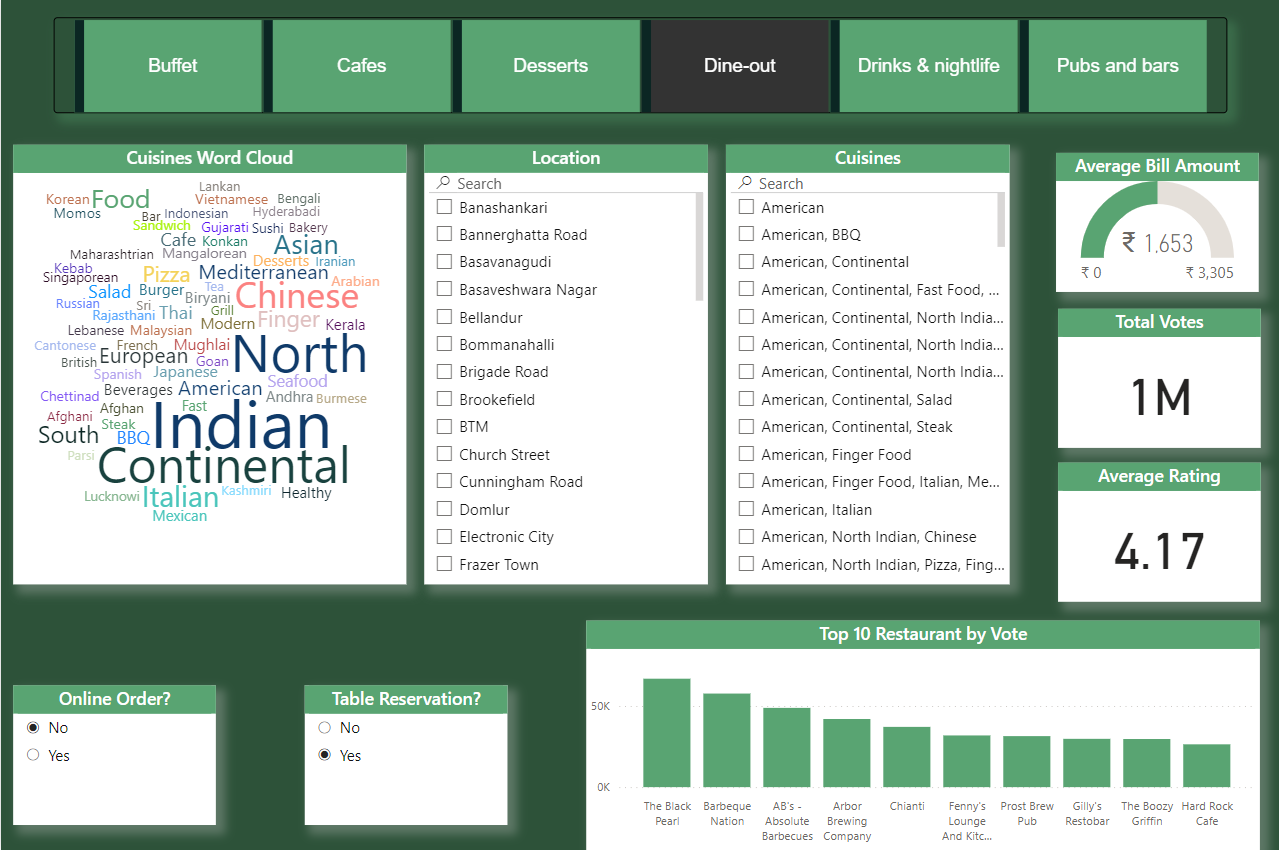

This screenshot's page, from the dashboard's own definition file:
{"tool":"powerbi","page":{"name":"Report","canvas":[1350,900],"ordinal":0},"visuals":[{"type":"gauge","title":"Average Bill Amount","fields":{"Y":["Avg(zomato.approx_cost(for two people))"]},"box":[1113.3,163.7,213.9,146.7],"z":2000},{"type":"card","title":"Total Votes","fields":{"Values":["Sum(zomato.votes)"]},"box":[1113.9,328.7,213.9,146.7],"z":3000},{"type":"card","title":"Average Rating","fields":{"Values":["Avg(zomato.rate)"]},"box":[1114.6,491.2,213.9,146.7],"z":4000},{"type":"columnChart","title":"Top 10 Restaurant by Vote","fields":{"Category":["zomato.name"],"Y":["Sum(zomato.votes)"]},"box":[617.2,657.3,710.8,242.7],"z":5000},{"type":"slicer","title":"Table Reservation?","fields":{"Values":["zomato.book_table"]},"box":[321,726.1,214,147],"z":6000},{"type":"slicer","title":"Online Order?","fields":{"Values":["zomato.online_order"]},"box":[13.4,726.1,214,147.1],"z":7000},{"type":"slicer","title":"Cuisines","fields":{"Values":["zomato.cuisines"]},"box":[765.3,156.1,299.3,463.9],"z":8000},{"type":"slicer","title":"Location","fields":{"Values":["zomato.location"]},"box":[446.8,156.1,299.3,463.9],"z":9000},{"type":"WordCloud1447959067750","title":"Cuisines Word Cloud","fields":{"Category":["zomato.cuisines"]},"box":[12.8,156.1,414.7,463.9],"z":10000},{"type":"slicer","title":"Restaurant Type","fields":{"Values":["zomato.listed_in(type)"]},"box":[55.9,21,1238.2,101.3],"z":10500}]}

Visuals, with their boxes in screenshot pixels (x1, y1, x2, y2), scaled from the page's 1350x900 canvas onto the 1279x850 screenshot:
"Average Bill Amount" gauge: BBox(1055, 155, 1257, 293)
"Total Votes" card: BBox(1055, 310, 1258, 449)
"Average Rating" card: BBox(1056, 464, 1259, 602)
"Top 10 Restaurant by Vote" columnChart: BBox(585, 621, 1258, 849)
"Table Reservation?" slicer: BBox(304, 686, 507, 825)
"Online Order?" slicer: BBox(13, 686, 215, 825)
"Cuisines" slicer: BBox(725, 147, 1009, 586)
"Location" slicer: BBox(423, 147, 707, 586)
"Cuisines Word Cloud" WordCloud1447959067750: BBox(12, 147, 405, 586)
"Restaurant Type" slicer: BBox(53, 20, 1226, 116)
